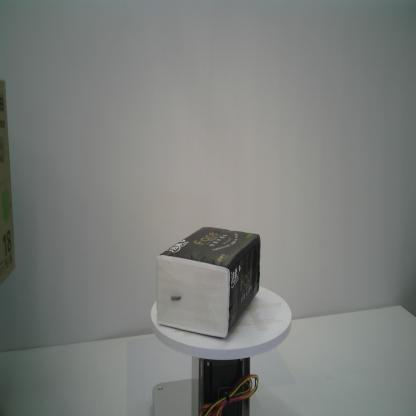Tissue: (154, 225, 261, 341)
